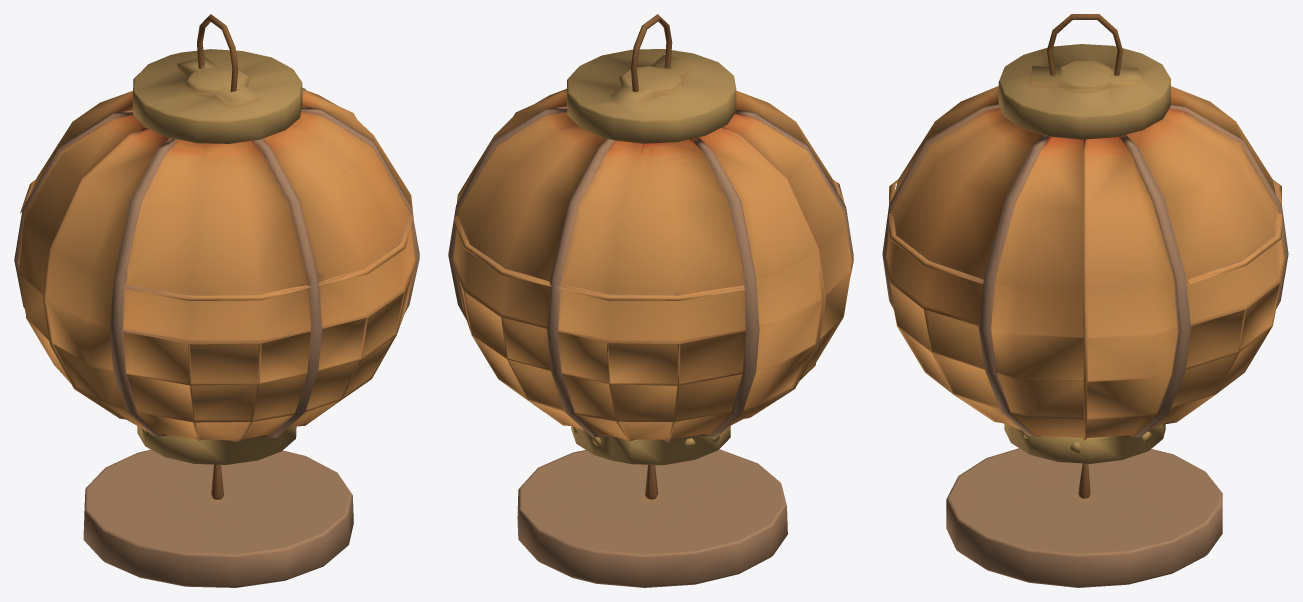
Rendered from floating-lantern.glb.
3 renders of one model, left to right at view 1: azimuth 30°, elevation 25°; view 2: azimuth 150°, elevation 25°; view 3: azimuth 270°, elevation 25°, orthographic.
Parts seen in each view (by area): view 1: tripo_node_b3ebd5d7-1f33-48c8-ab15-b2dd75abc519; view 2: tripo_node_b3ebd5d7-1f33-48c8-ab15-b2dd75abc519; view 3: tripo_node_b3ebd5d7-1f33-48c8-ab15-b2dd75abc519.
Part boxes in pixels (x1=…): tripo_node_b3ebd5d7-1f33-48c8-ab15-b2dd75abc519: x1=14, y1=14, x2=419, y2=587; tripo_node_b3ebd5d7-1f33-48c8-ab15-b2dd75abc519: x1=448, y1=14, x2=853, y2=587; tripo_node_b3ebd5d7-1f33-48c8-ab15-b2dd75abc519: x1=882, y1=14, x2=1288, y2=587.
Size of the model in its own units: 0.7104 by 1 by 0.7104.
1 material, 1 textured.
